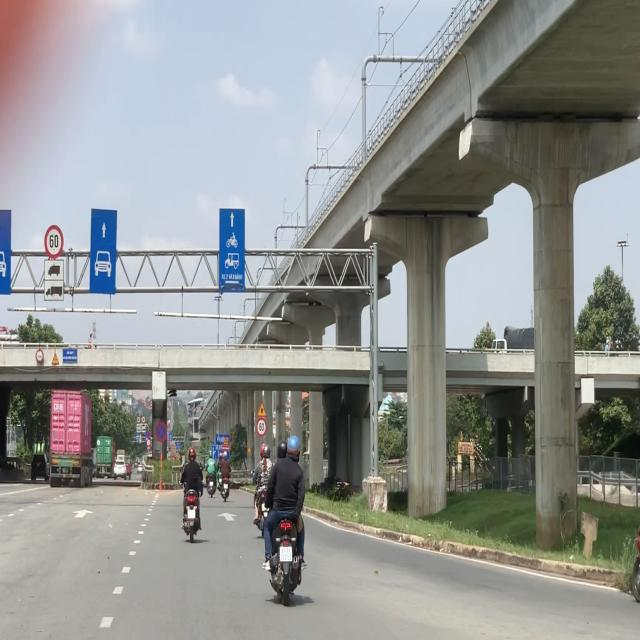Cam dung va do: (155, 420, 167, 443)
Chieu cao toi da: (36, 348, 44, 364)
Giao voi duong khong uu tien: (256, 400, 268, 418)
Nguy hiem: (51, 353, 60, 365)
Toc do toi da: (44, 224, 64, 257), (257, 419, 267, 437)
